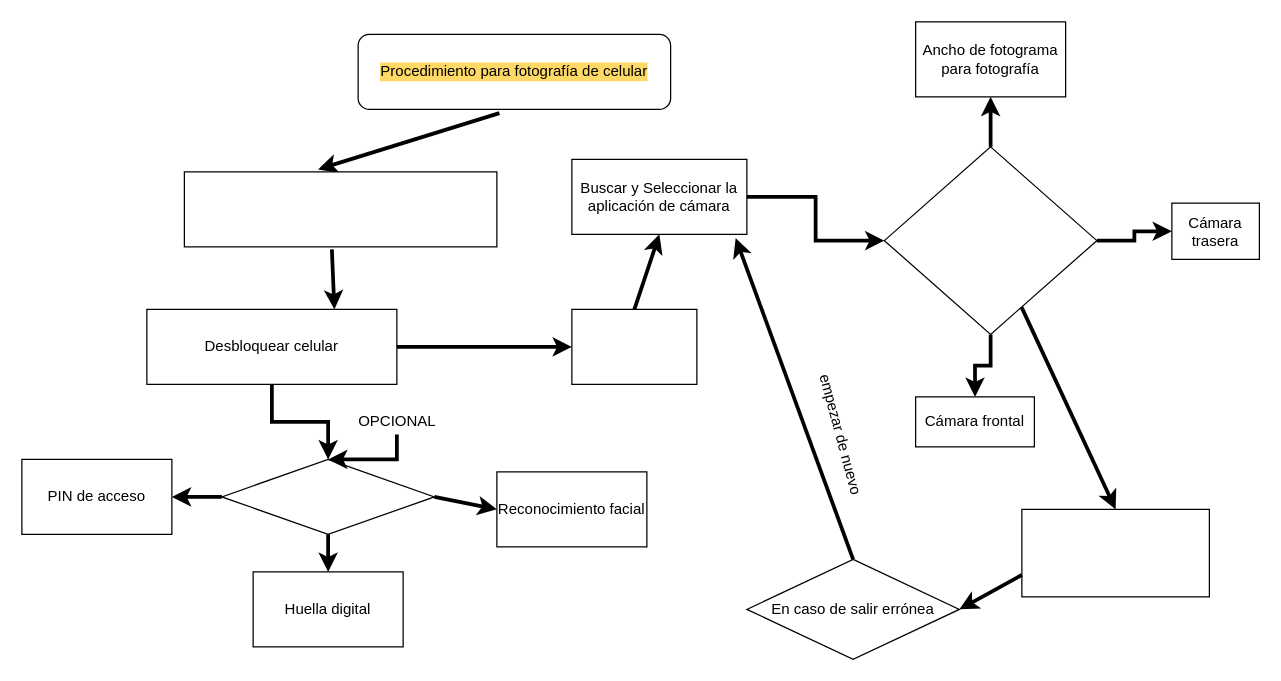
This 1281x681 diagram has some shape labels left out. Each missing label, with the box of its shape:
Elegir formato y clase de fotografía: (883, 146, 1097, 334)
Poner una pose perfecta y luego presionar el botón para tomar la fotografía: (1021, 508, 1209, 597)
Sacar el celular del bolsillo.: (183, 171, 497, 247)
Seleccionar menú: (571, 308, 697, 384)
Tipo de desbloqueo: (221, 458, 434, 534)
